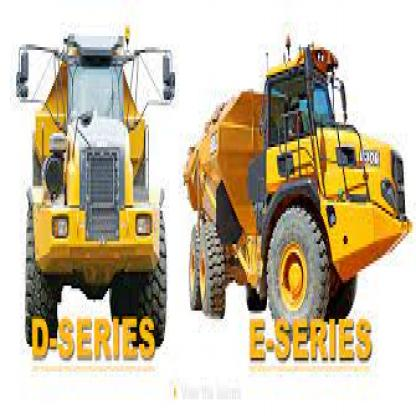dump_truck: (180, 19, 415, 366), (10, 25, 175, 374)
